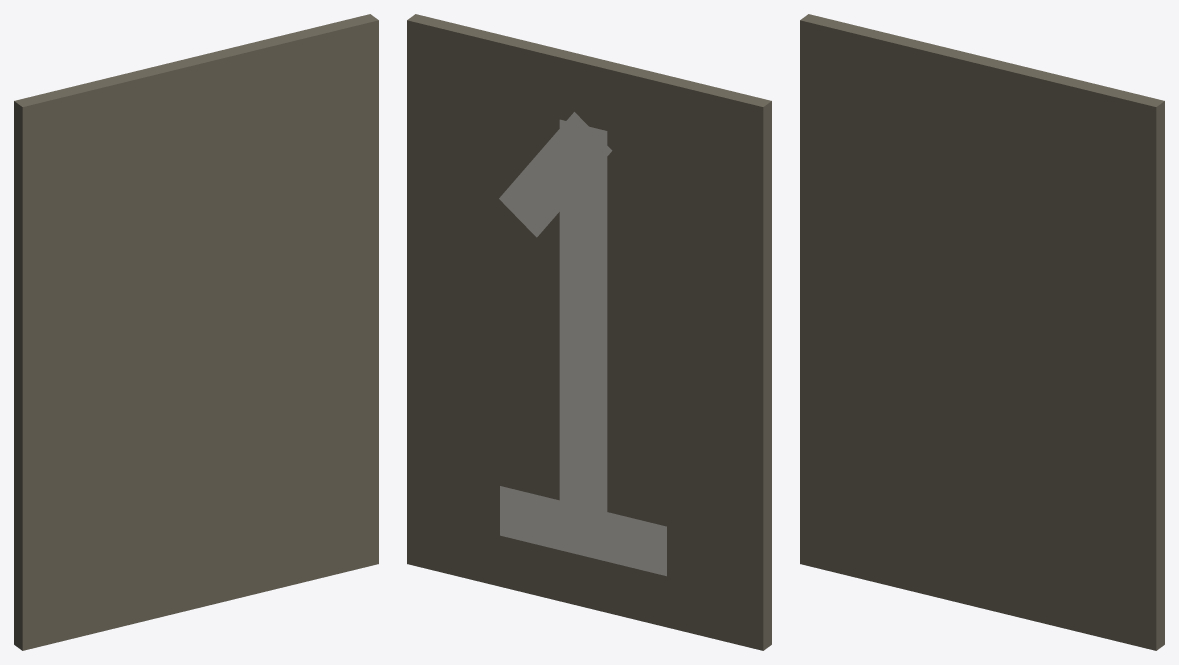
File: stair_digit_1.glb
3 views of the same model, side by side, from view 1: azimuth 30°, elevation 25°; view 2: azimuth 150°, elevation 25°; view 3: azimuth 330°, elevation 25° (orthographic).
Parts seen in each view (by area): view 1: stair_digit_1; view 2: stair_digit_1; view 3: stair_digit_1.
Boxes of the visible parts, x1=… form: stair_digit_1: x1=14, y1=14, x2=378, y2=650; stair_digit_1: x1=407, y1=14, x2=771, y2=650; stair_digit_1: x1=800, y1=14, x2=1164, y2=650.
Size of the model in its own units: 0.24 by 0.35 by 0.012.
2 materials, 2 textured.
